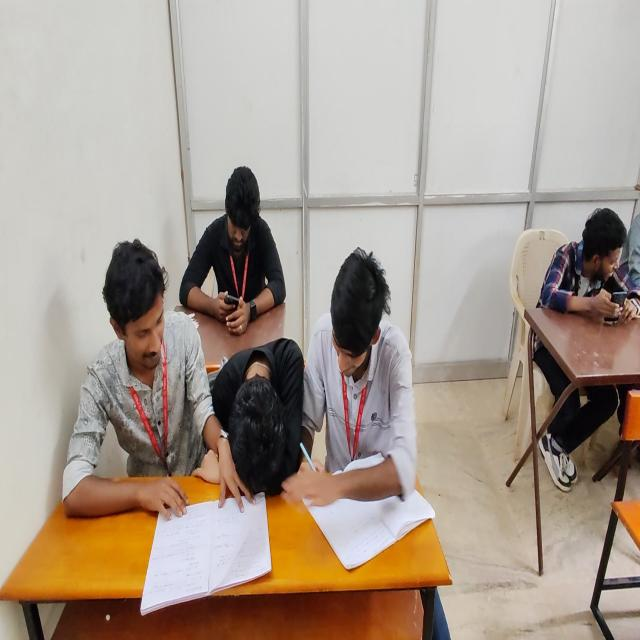sleeping: (198, 308, 313, 498)
turning: (51, 223, 253, 553), (293, 232, 426, 530), (530, 179, 640, 347)
using_mobile: (160, 151, 294, 332)
